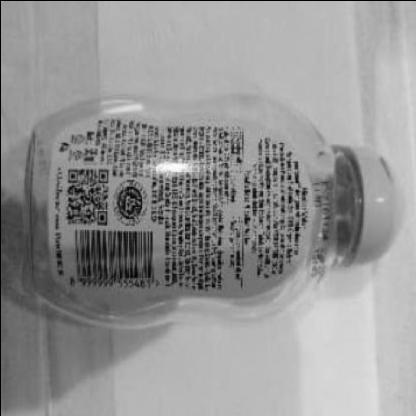objects: (15, 88, 405, 330)
